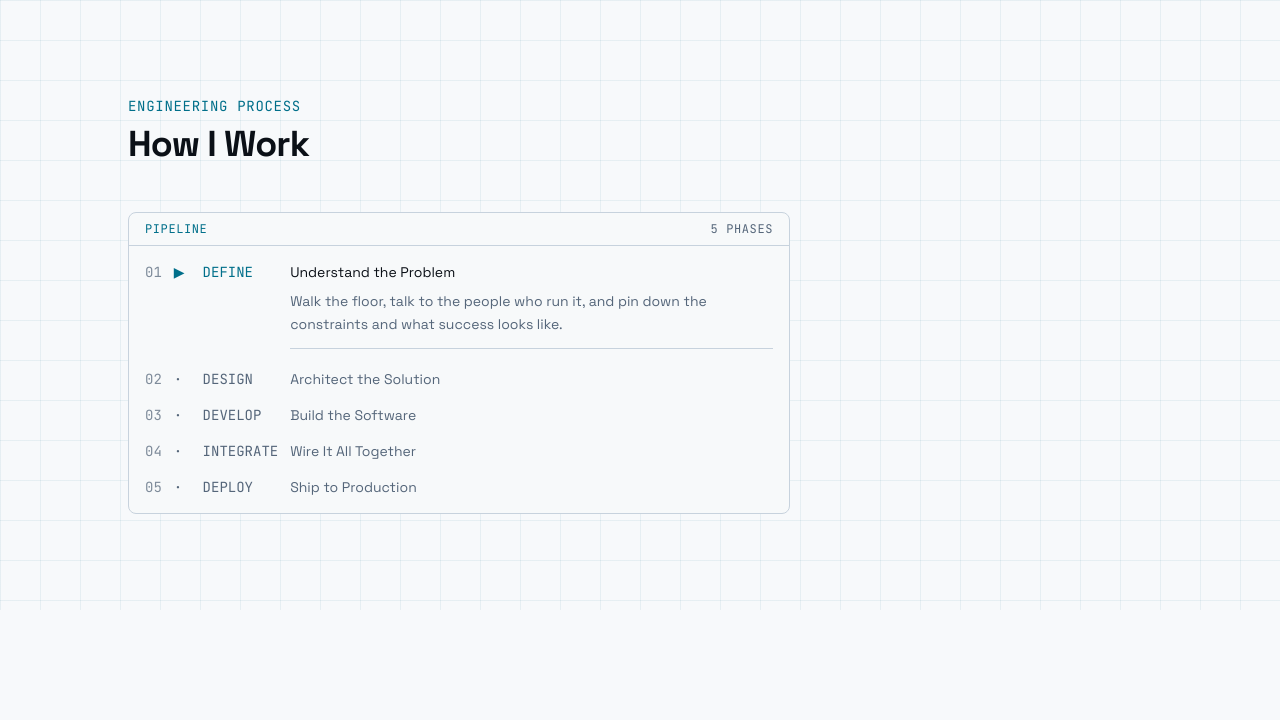
EngineeringProcess › lists every phase and expands the one selected
expect the text "Walk the floor, talk to the people who run it, and pin down the constraints and what success looks like." is shown: met, box [290,292,707,333]
What coordinates should you click on to do the following:
click the button "03 · DEVELOP Build the Software"
I would click on:
 (232, 414)
Its box is [129,396,789,432].
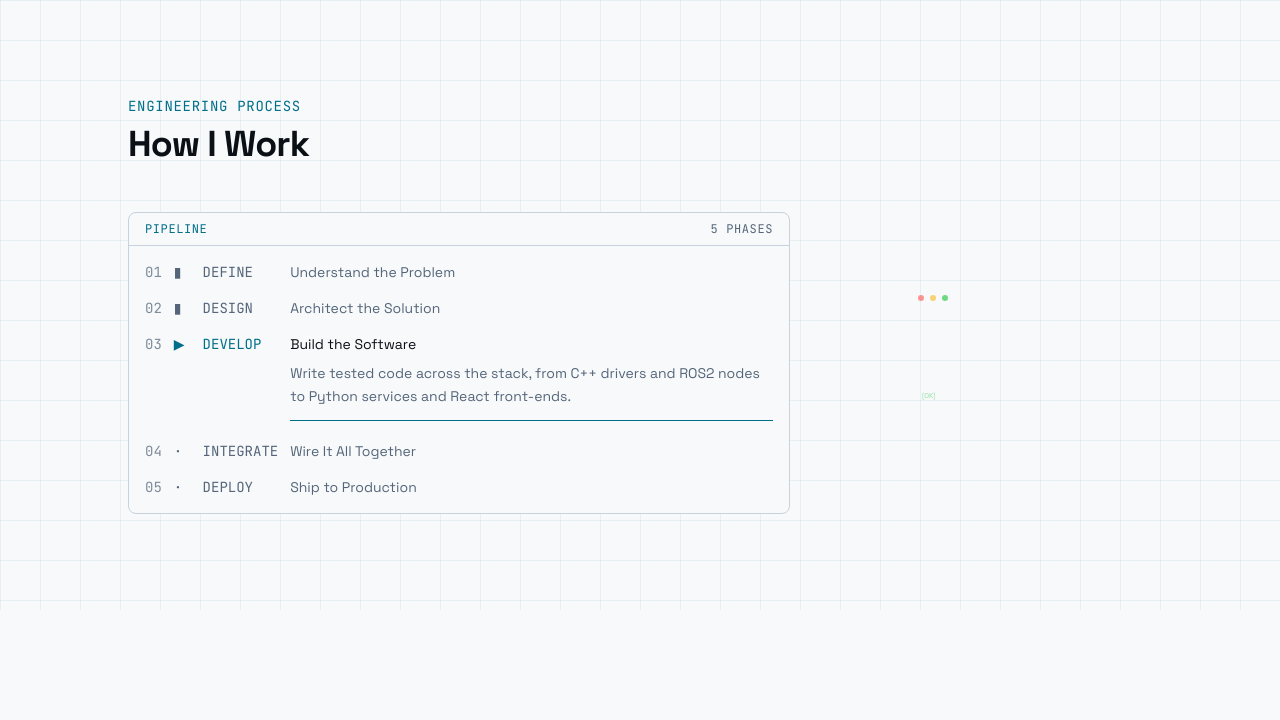
expect the text "Write tested code across the stack, from C++ drivers and ROS2 nodes to Python services and React front-ends." is shown: met, box [290,364,760,405]
